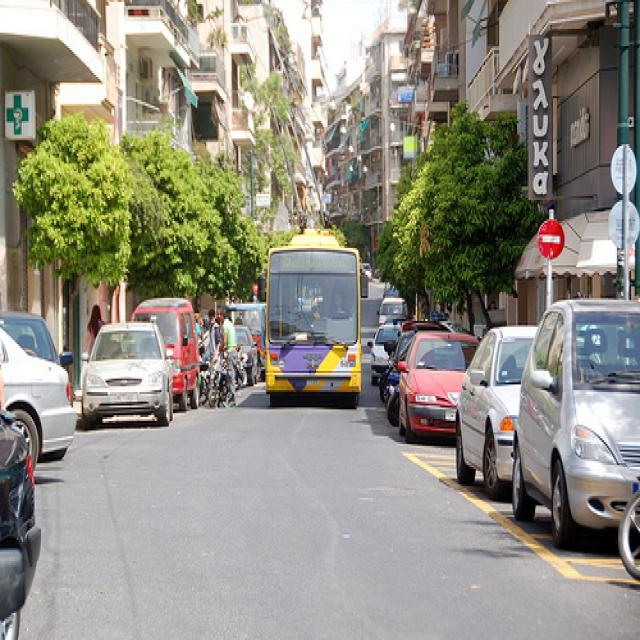motor: (209, 351, 227, 406), (234, 345, 248, 388), (199, 369, 210, 405)
